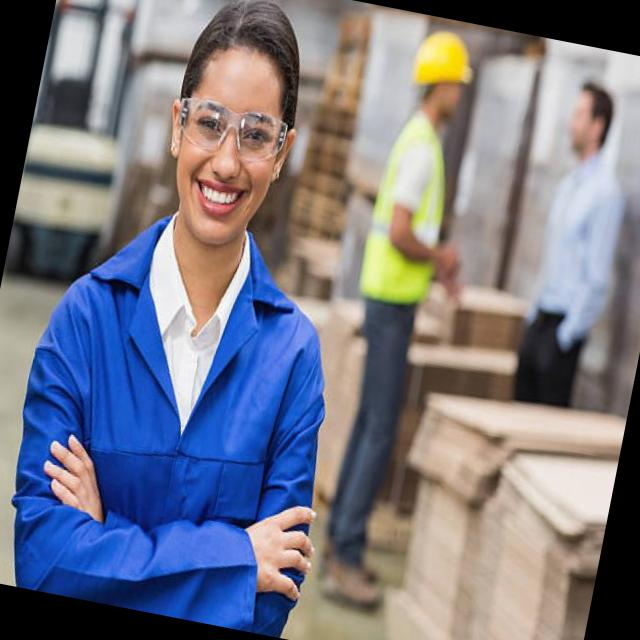Helmet: (400, 19, 492, 94)
Vest: (360, 112, 464, 312)
